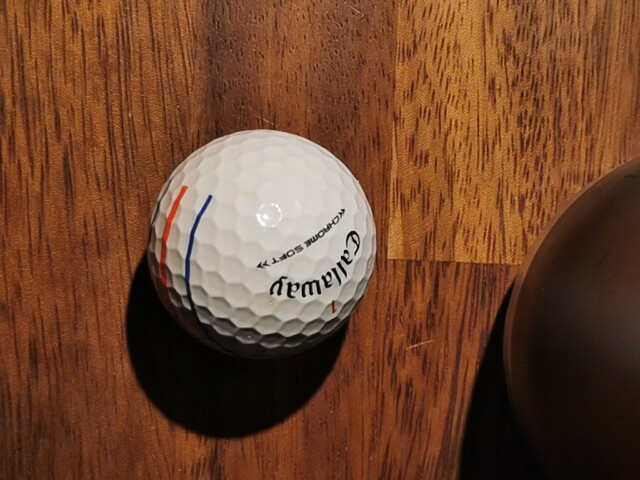Ball: (147, 128, 377, 360)
Callaway: (269, 230, 361, 299)
